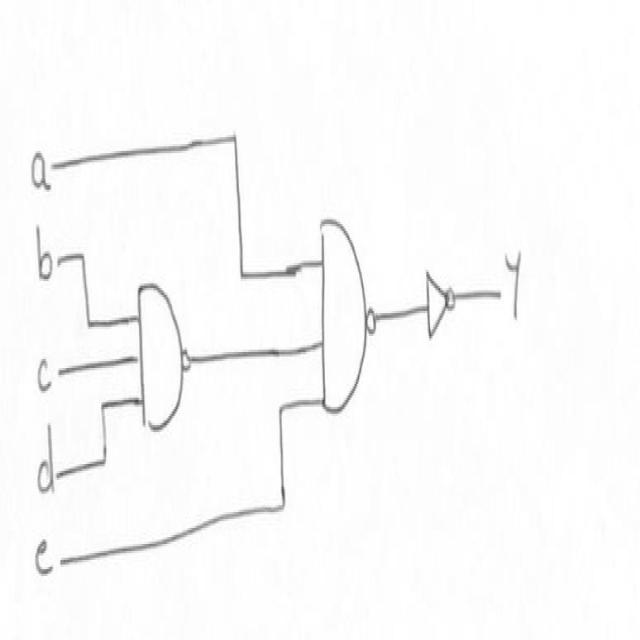NAND: (312, 197, 381, 438), (129, 258, 203, 446)
NOT: (418, 244, 463, 359)
